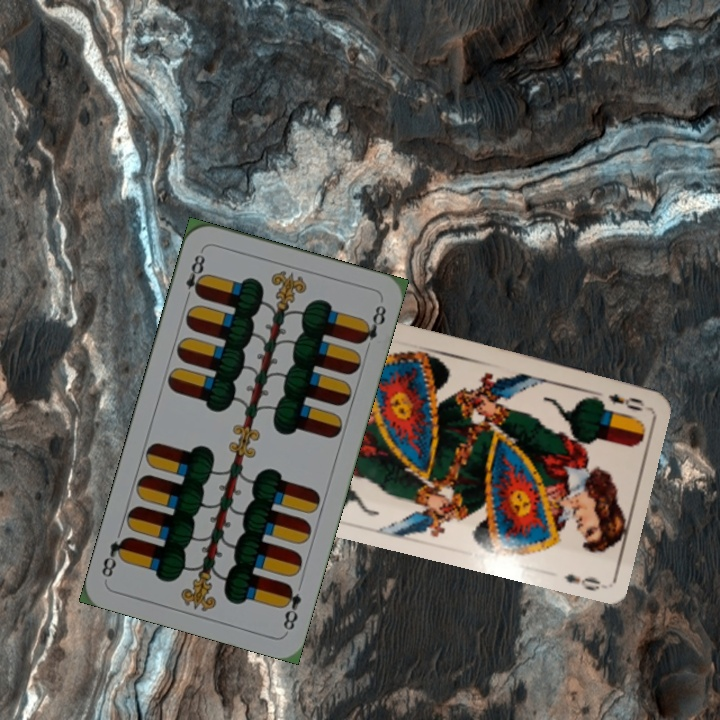E8: (181, 246, 208, 304), (277, 579, 304, 633)
EO: (603, 389, 647, 414)
